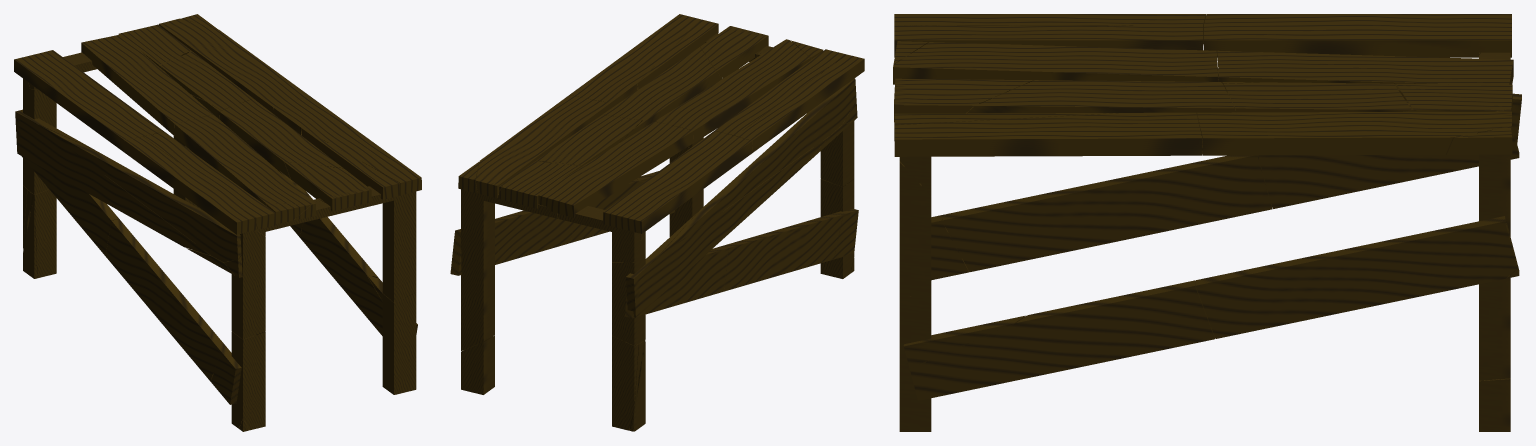
The model's file is mesa rota.fbx.
The picture shows the model from 3 angles, left to right: view 1: azimuth 30°, elevation 25°; view 2: azimuth 150°, elevation 25°; view 3: azimuth 270°, elevation 25°; orthographic projection. The views are drawn at different scales.
Visible parts, largest first — view 1: mesa.010_cell.002, mesa.002_cell.001, mesa.009_cell, mesa.003_cell.001, mesa.003_cell, mesa.009_cell.001, mesa.007_cell.003, mesa.007_cell.001, mesa.005_cell.006, mesa.004_cell, mesa.006_cell.003, mesa.002_cell (+16 smaller); view 2: mesa.002_cell.001, mesa.003_cell, mesa.009_cell, mesa.008_cell.005, mesa.003_cell.001, mesa.010_cell.002, mesa.009_cell.001, mesa.007_cell.003, mesa.007_cell.001, mesa.004_cell, mesa.002_cell, mesa.006_cell (+17 smaller); view 3: mesa.010_cell.002, mesa.006_cell, mesa.006_cell.003, mesa.002_cell.001, mesa.007_cell.003, mesa.007_cell.001, mesa.003_cell.001, mesa.003_cell, mesa.004_cell, mesa.010_cell.003, mesa.002_cell.002, mesa.008_cell.005 (+12 smaller).
Boxes of the visible parts, box(x1,y1,x2,y2) form: mesa.010_cell.002: box(105, 219, 229, 381); mesa.002_cell.001: box(14, 50, 163, 151); mesa.009_cell: box(15, 109, 211, 255); mesa.003_cell.001: box(174, 114, 315, 220); mesa.003_cell: box(81, 34, 212, 135); mesa.009_cell.001: box(39, 125, 241, 262); mesa.007_cell.003: box(158, 18, 309, 113); mesa.007_cell.001: box(273, 96, 421, 195); mesa.005_cell.006: box(318, 186, 416, 302); mesa.004_cell: box(219, 98, 343, 178); mesa.006_cell.003: box(300, 217, 382, 335); mesa.002_cell: box(124, 137, 257, 234); mesa.002_cell.001: box(603, 131, 751, 233); mesa.003_cell: box(538, 121, 693, 217); mesa.009_cell: box(626, 136, 829, 317); mesa.008_cell.005: box(461, 189, 558, 350); mesa.003_cell.001: box(655, 39, 811, 142); mesa.010_cell.002: box(721, 212, 842, 291); mesa.009_cell.001: box(658, 78, 856, 256); mesa.007_cell.003: box(475, 95, 610, 198); mesa.007_cell.001: box(570, 14, 700, 108); mesa.004_cell: box(603, 47, 722, 126); mesa.002_cell: box(736, 54, 864, 153); mesa.006_cell: box(451, 210, 573, 272); mesa.010_cell.002: box(942, 155, 1271, 271); mesa.006_cell: box(1195, 216, 1517, 338); mesa.006_cell.003: box(910, 280, 1214, 400); mesa.002_cell.001: box(1203, 14, 1511, 57); mesa.007_cell.003: box(1197, 111, 1511, 155); mesa.007_cell.001: box(894, 112, 1202, 156); mesa.003_cell.001: box(893, 42, 1218, 84); mesa.003_cell: box(1217, 50, 1513, 85); mesa.004_cell: box(966, 80, 1235, 113); mesa.010_cell.003: box(1258, 129, 1519, 208); mesa.002_cell.002: box(894, 26, 1202, 57); mesa.008_cell.005: box(1479, 109, 1510, 380).
Bounding box in the file's own units: 1.12 × 1.2 × 2.32.
